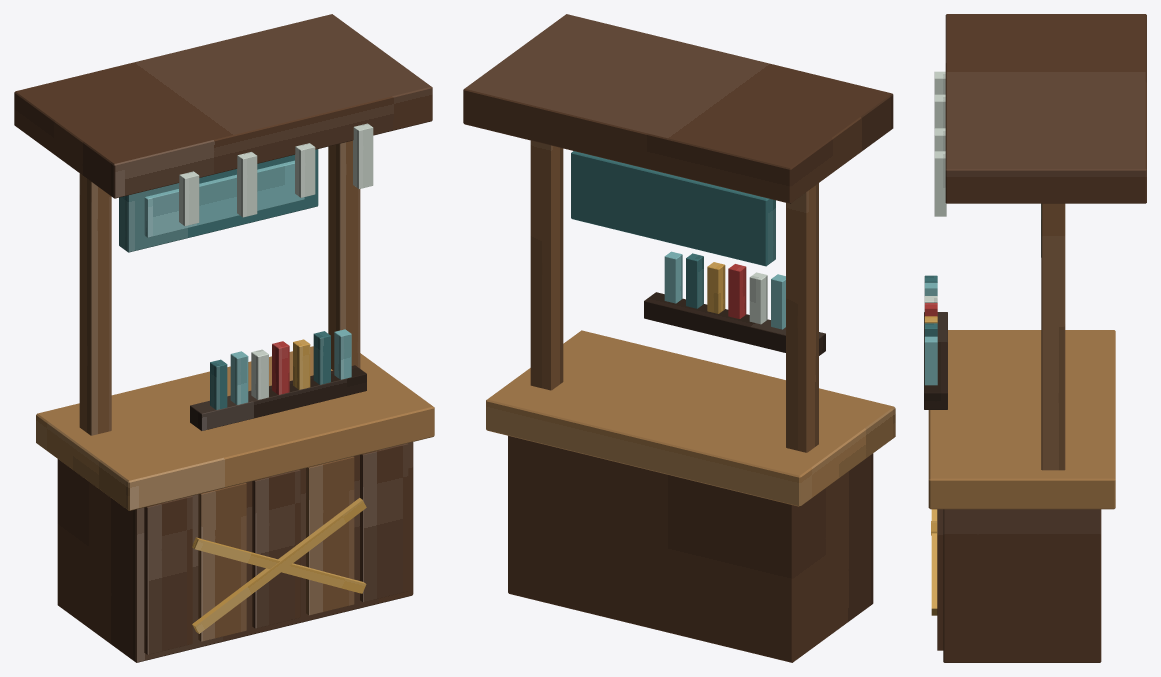
Rendered from tiki_bar.glb.
3 views of the same model, side by side, from view 1: azimuth 30°, elevation 25°; view 2: azimuth 150°, elevation 25°; view 3: azimuth 270°, elevation 25° (orthographic). The views are drawn at different scales.
Visible parts, largest first — view 1: CanopyRoof, BarCounter, BarBody, CanopyPostL, BarPlank_1, BarPlank_5, CanopyPostR, BarPlank_3, BarPlank_4, BarPlank_2, SignInset, FrozenSign (+14 smaller); view 2: BarBody, CanopyRoof, BarCounter, FrozenSign, CanopyPostL, CanopyPostR, BottleShelf, Bottle_4, Bottle_6, Bottle_3, Bottle_5, Bottle_7 (+1 smaller); view 3: CanopyRoof, BarCounter, BarBody, CanopyPostR, BottleShelf, BarPlank_5, Icicle_4, Bottle_7, RopeDiagonalA, Icicle_2.
Part boxes in pixels (left/top/right/bottom): CanopyRoof: left=14, top=14, right=432, bottom=198; BarCounter: left=36, top=346, right=434, bottom=510; BarBody: left=57, top=442, right=413, bottom=662; CanopyPostL: left=79, top=173, right=111, bottom=435; BarPlank_1: left=144, top=496, right=192, bottom=654; BarPlank_5: left=360, top=443, right=408, bottom=602; CanopyPostR: left=328, top=140, right=360, bottom=370; BarPlank_3: left=252, top=469, right=300, bottom=628; BarPlank_4: left=306, top=456, right=354, bottom=615; BarPlank_2: left=198, top=483, right=246, bottom=641; SignInset: left=144, top=160, right=304, bottom=237; FrozenSign: left=119, top=149, right=318, bottom=252; BarBody: left=508, top=436, right=873, bottom=662; CanopyRoof: left=463, top=14, right=893, bottom=203; BarCounter: left=486, top=330, right=895, bottom=506; FrozenSign: left=571, top=151, right=775, bottom=266; CanopyPostL: left=786, top=183, right=818, bottom=452; CanopyPostR: left=530, top=140, right=563, bottom=390; BottleShelf: left=644, top=292, right=825, bottom=355; Bottle_4: left=728, top=264, right=746, bottom=318; Bottle_6: left=686, top=253, right=703, bottom=308; Bottle_3: left=749, top=272, right=767, bottom=324; Bottle_5: left=707, top=262, right=725, bottom=313; Bottle_7: left=664, top=251, right=682, bottom=303; CanopyRoof: left=945, top=14, right=1146, bottom=203; BarCounter: left=928, top=330, right=1115, bottom=509; BarBody: left=943, top=509, right=1101, bottom=662; CanopyPostR: left=1041, top=203, right=1065, bottom=470; BottleShelf: left=924, top=312, right=947, bottom=409; BarPlank_5: left=937, top=509, right=943, bottom=650; Icicle_4: left=934, top=151, right=946, bottom=216; Bottle_7: left=924, top=336, right=937, bottom=385; RopeDiagonalA: left=931, top=509, right=937, bottom=615; Icicle_2: left=934, top=94, right=945, bottom=128.
Size of the model in its own units: 1.54 by 2.32 by 0.93.
1 material, 1 textured.
